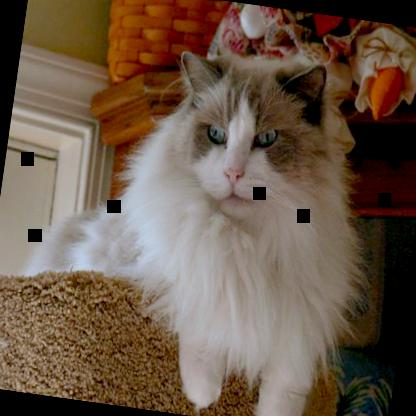cat: (17, 27, 382, 415)
